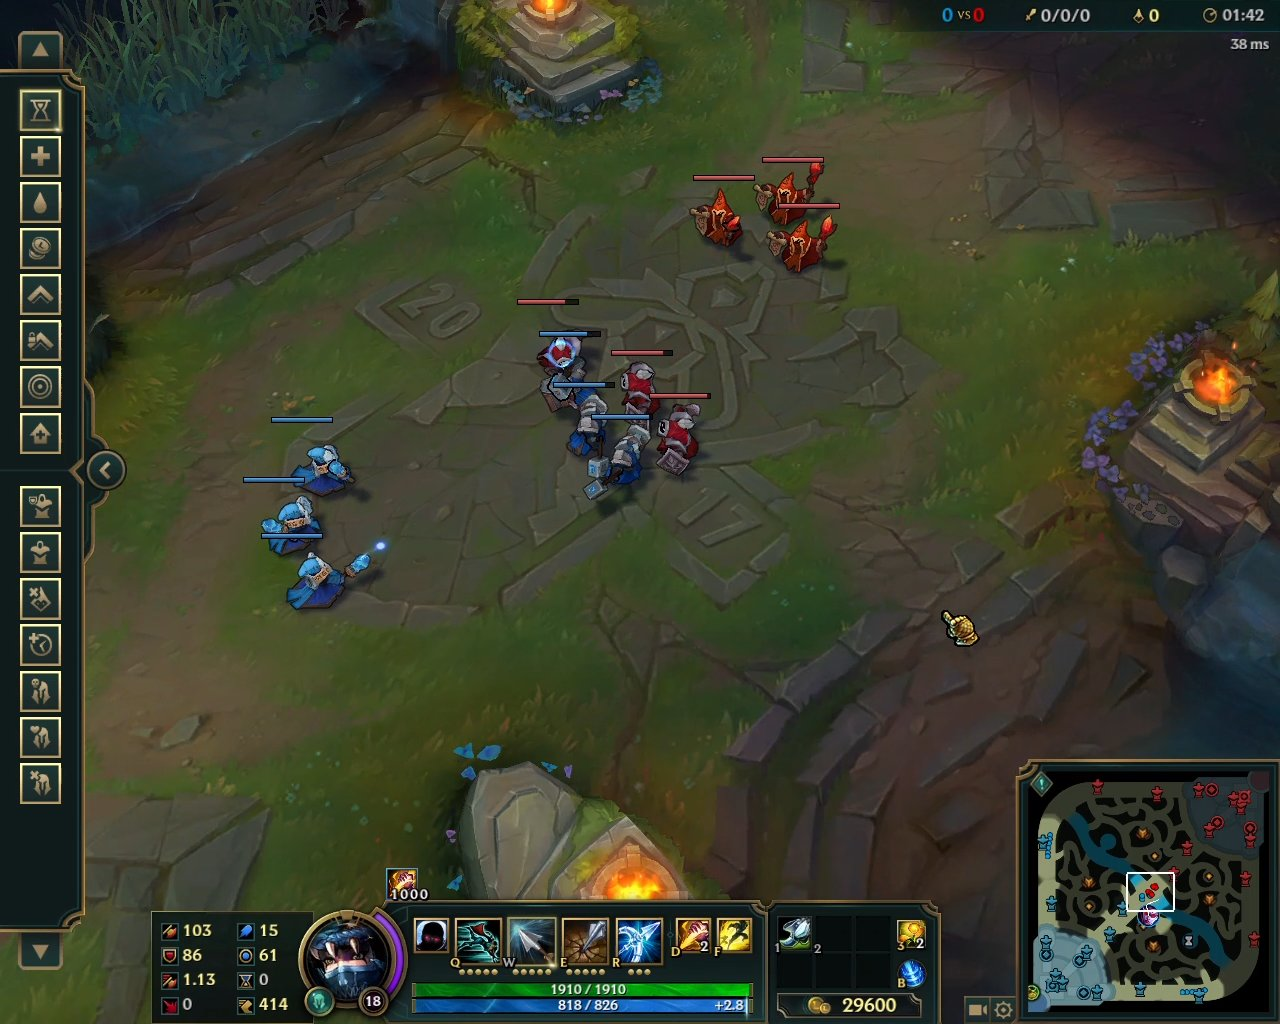EnemyMinion: (516, 297, 601, 379), (761, 203, 842, 277), (644, 392, 713, 476), (754, 154, 827, 233), (606, 349, 678, 423), (686, 173, 757, 249)
